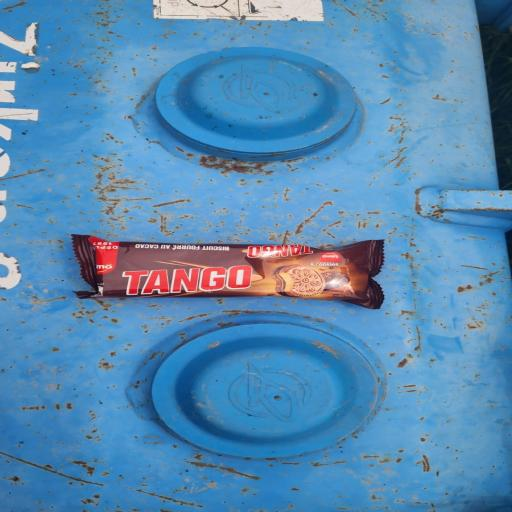tango: (40, 202, 421, 361)
